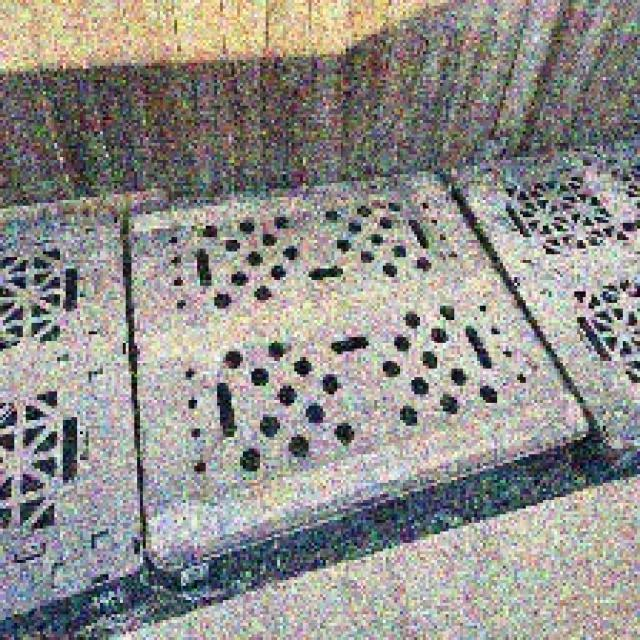igps: (122, 165, 598, 628), (434, 129, 640, 495), (0, 203, 160, 640)
